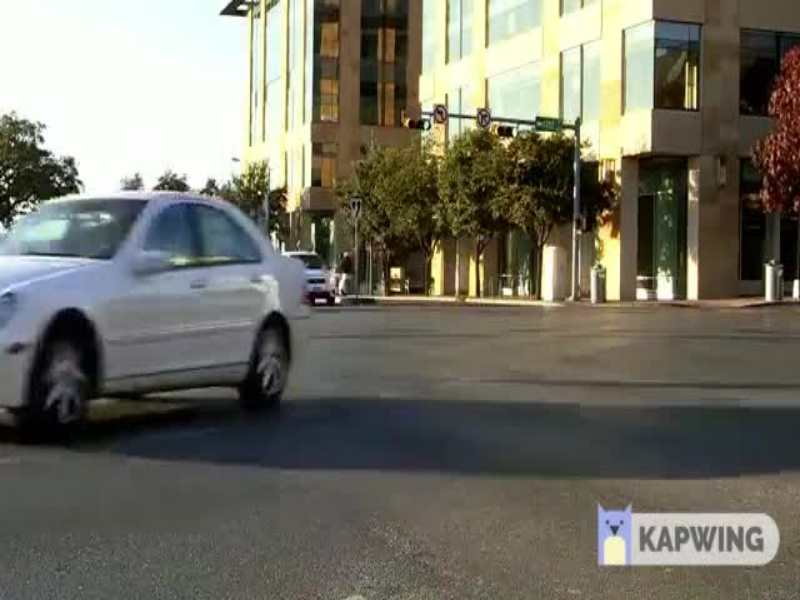car: (1, 192, 308, 424)
